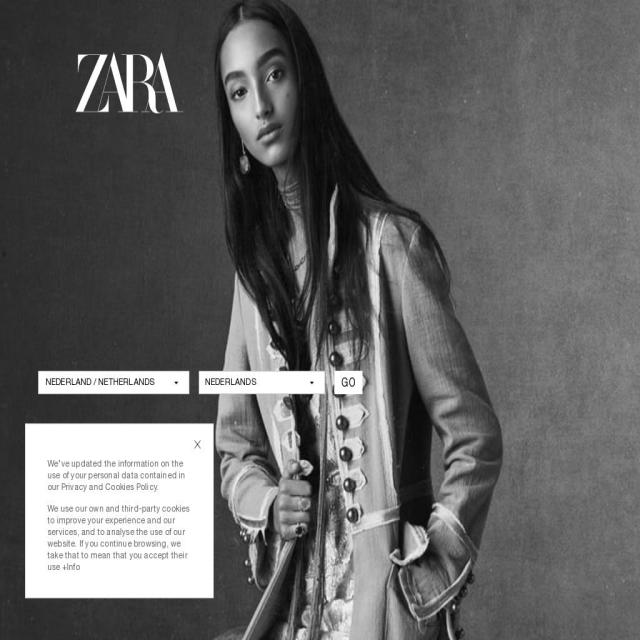button: (39, 372, 189, 391), (199, 372, 325, 391), (192, 438, 202, 450)
field: (334, 371, 362, 395)
heading: (76, 53, 183, 114), (26, 457, 214, 476)
image: (194, 440, 200, 450)
link: (60, 481, 158, 492), (62, 561, 80, 572)
text: (48, 502, 190, 572), (48, 458, 186, 492), (45, 376, 155, 388), (204, 376, 256, 388)
